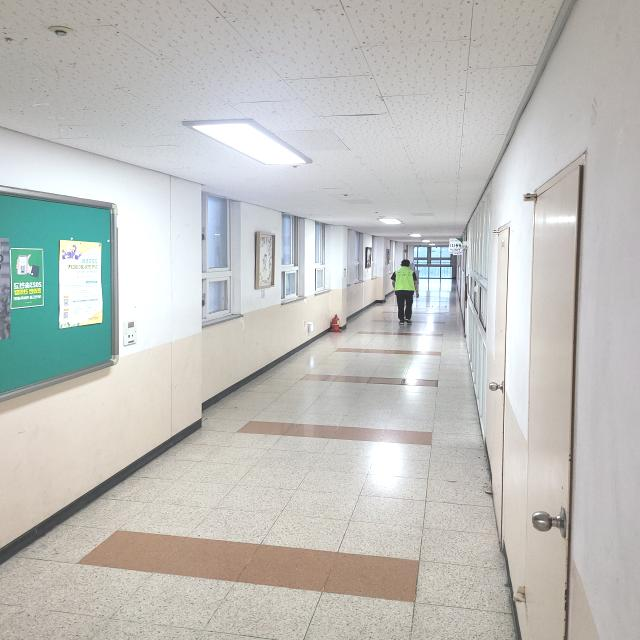weston_spy: (382, 263, 422, 302)
